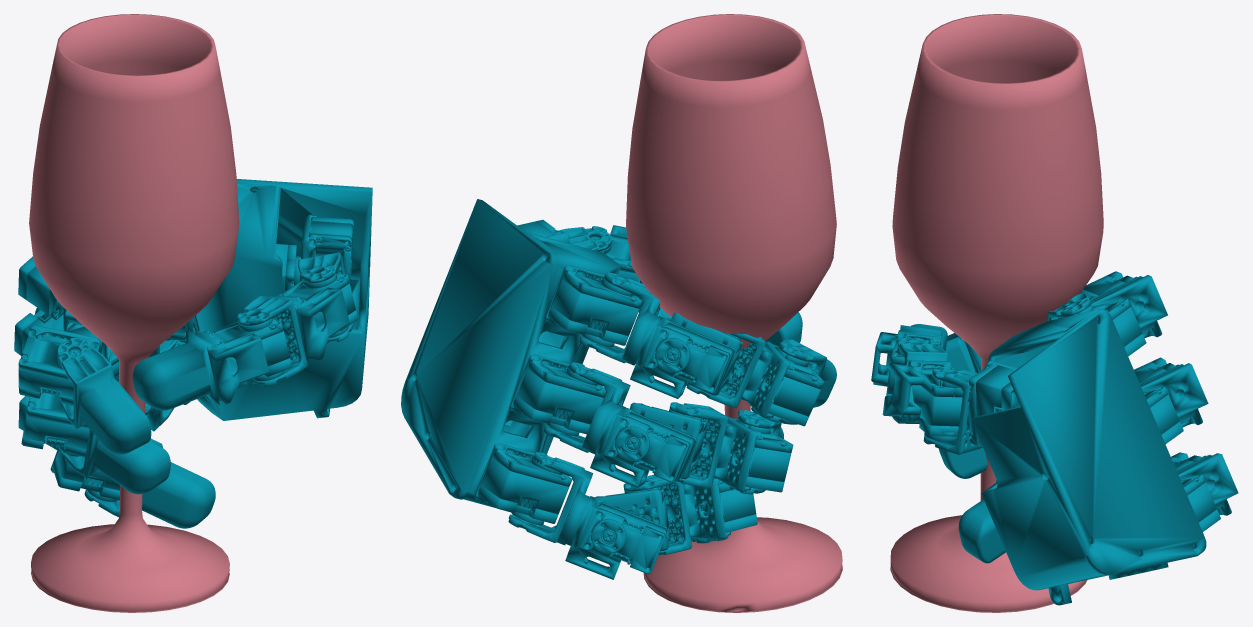
The picture shows the model from 3 angles, left to right: view 1: azimuth 30°, elevation 25°; view 2: azimuth 150°, elevation 25°; view 3: azimuth 270°, elevation 25°; orthographic projection.
Visible parts, largest first — view 1: world; view 2: world; view 3: world.
Part boxes in pixels (<box>): world: <box>14,14,372,612</box>; world: <box>401,14,842,612</box>; world: <box>871,14,1238,612</box>.
Size of the model in its own units: 0.2061 by 0.27 by 0.1696.
